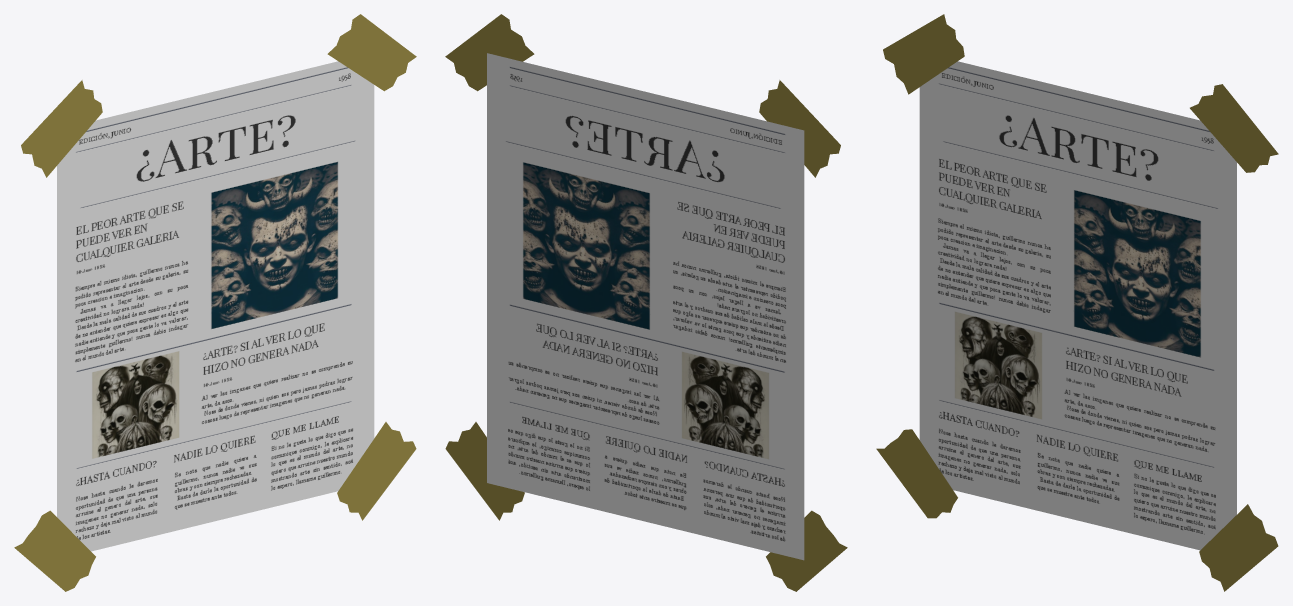
File: diario.fbx
3 views of the same model, side by side, from view 1: azimuth 30°, elevation 25°; view 2: azimuth 150°, elevation 25°; view 3: azimuth 330°, elevation 25° (orthographic).
Visible parts, largest first — view 1: Plane, Plane.001, Plane.002, Plane.003, Plane.004; view 2: Plane, Plane.003, Plane.001, Plane.004, Plane.002; view 3: Plane, Plane.003, Plane.001, Plane.002, Plane.004.
Part boxes in pixels (box(x1,y1,x2,y2)): Plane: box(57, 61, 374, 551); Plane.001: box(21, 80, 102, 177); Plane.002: box(337, 422, 416, 520); Plane.003: box(327, 14, 416, 91); Plane.004: box(14, 510, 95, 591); Plane: box(487, 53, 804, 560); Plane.003: box(445, 14, 534, 91); Plane.001: box(759, 80, 840, 177); Plane.004: box(766, 510, 847, 591); Plane.002: box(445, 422, 524, 520); Plane: box(919, 61, 1236, 550); Plane.003: box(1190, 84, 1278, 172); Plane.001: box(883, 14, 964, 94); Plane.002: box(1199, 504, 1278, 591); Plane.004: box(876, 429, 957, 518).
Bounding box in the file's own units: 254 × 307 × 0.4132.
2 materials, 1 textured.
